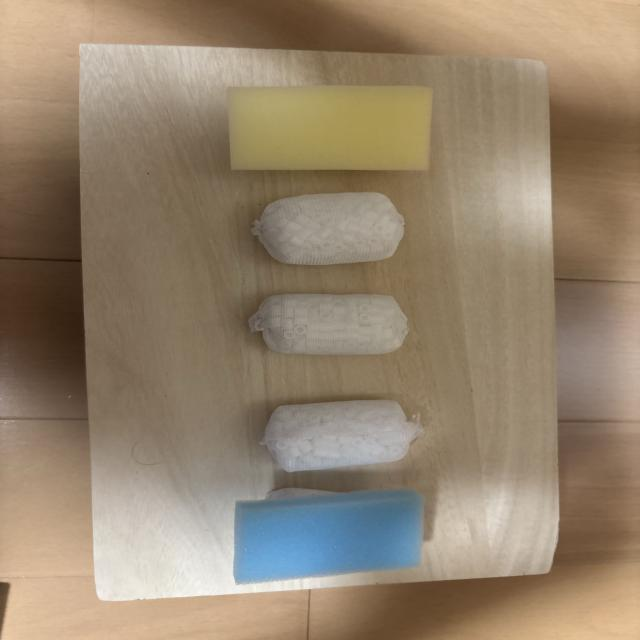NG: (261, 400, 423, 472), (252, 192, 404, 266), (249, 294, 408, 355)
ika: (233, 490, 425, 584)
tamago: (227, 86, 432, 171)
